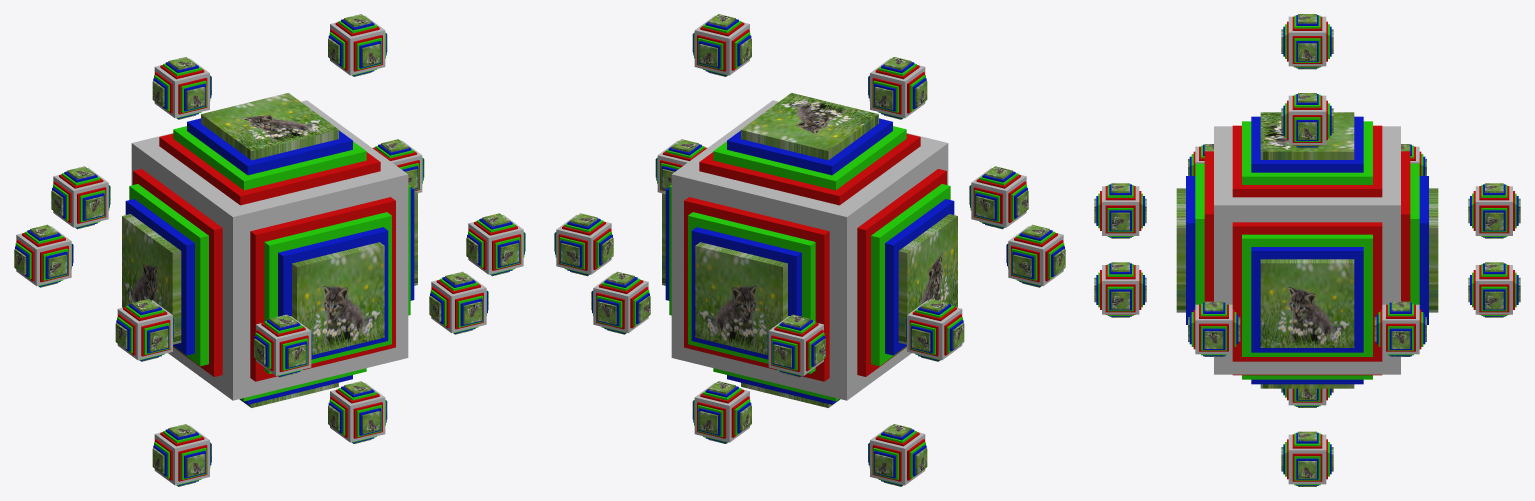
File: models.glb
The picture shows the model from 3 angles, left to right: view 1: azimuth 30°, elevation 25°; view 2: azimuth 150°, elevation 25°; view 3: azimuth 270°, elevation 25°; orthographic projection. The views are drawn at different scales.
Visible parts, largest first — view 1: Cube2.013, Cube2.014, Cube2.015, Cube2.016, Cube2.017, Cube2.018, Cube2.020, Cube2.021, Cube2.023, Cube2.024, Cube2.025, Cube2.022; view 2: Cube2.013, Cube2.014, Cube2.015, Cube2.016, Cube2.017, Cube2.018, Cube2.019, Cube2.020, Cube2.022, Cube2.024, Cube2.025, Cube2.023; view 3: Cube2.013, Cube2.022, Cube2.023, Cube2.014, Cube2.015, Cube2.017, Cube2.018, Cube2.019, Cube2.020, Cube2.021, Cube2.016.
Part boxes in pixels (<box>): Cube2.013: <box>122,93,417,407</box>; Cube2.014: <box>152,57,211,119</box>; Cube2.015: <box>328,14,387,76</box>; Cube2.016: <box>152,424,211,486</box>; Cube2.017: <box>328,381,387,443</box>; Cube2.018: <box>51,166,110,229</box>; Cube2.020: <box>254,314,313,377</box>; Cube2.021: <box>429,271,488,334</box>; Cube2.023: <box>466,213,525,276</box>; Cube2.024: <box>14,224,73,287</box>; Cube2.025: <box>115,299,174,361</box>; Cube2.022: <box>372,139,424,192</box>; Cube2.013: <box>662,93,957,407</box>; Cube2.014: <box>868,57,927,119</box>; Cube2.015: <box>692,14,751,76</box>; Cube2.016: <box>868,424,927,486</box>; Cube2.017: <box>692,381,751,443</box>; Cube2.018: <box>766,314,825,377</box>; Cube2.019: <box>591,271,650,334</box>; Cube2.020: <box>969,166,1028,229</box>; Cube2.022: <box>554,213,613,276</box>; Cube2.024: <box>905,299,964,361</box>; Cube2.025: <box>1006,224,1065,287</box>; Cube2.023: <box>655,139,707,192</box>; Cube2.013: <box>1176,112,1438,388</box>; Cube2.022: <box>1374,301,1426,356</box>; Cube2.023: <box>1188,301,1240,356</box>; Cube2.014: <box>1281,14,1333,69</box>; Cube2.015: <box>1281,93,1333,148</box>; Cube2.017: <box>1281,431,1333,486</box>; Cube2.018: <box>1468,183,1520,238</box>; Cube2.019: <box>1468,262,1520,317</box>; Cube2.020: <box>1094,183,1146,238</box>; Cube2.021: <box>1094,262,1146,317</box>; Cube2.016: <box>1281,388,1333,407</box>.
Size of the model in its own units: 4.56 by 4.56 by 4.56.
Materials: 1 (1 with a texture image).
